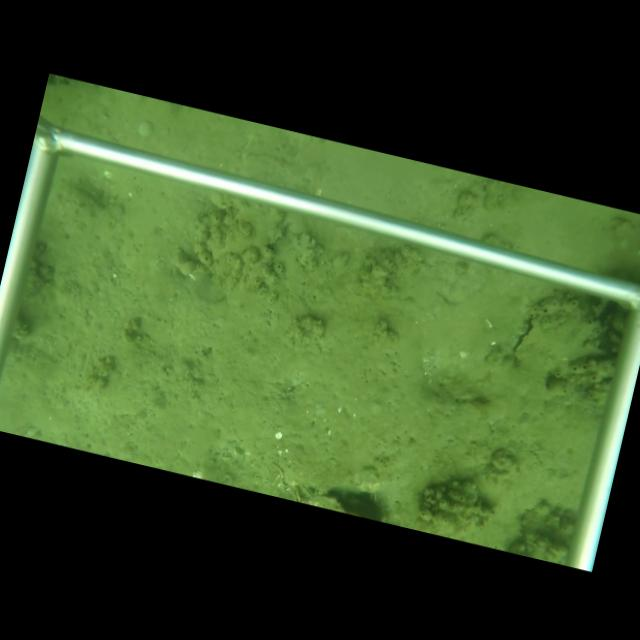Oyster-Indeterminate: (510, 298, 606, 387)
